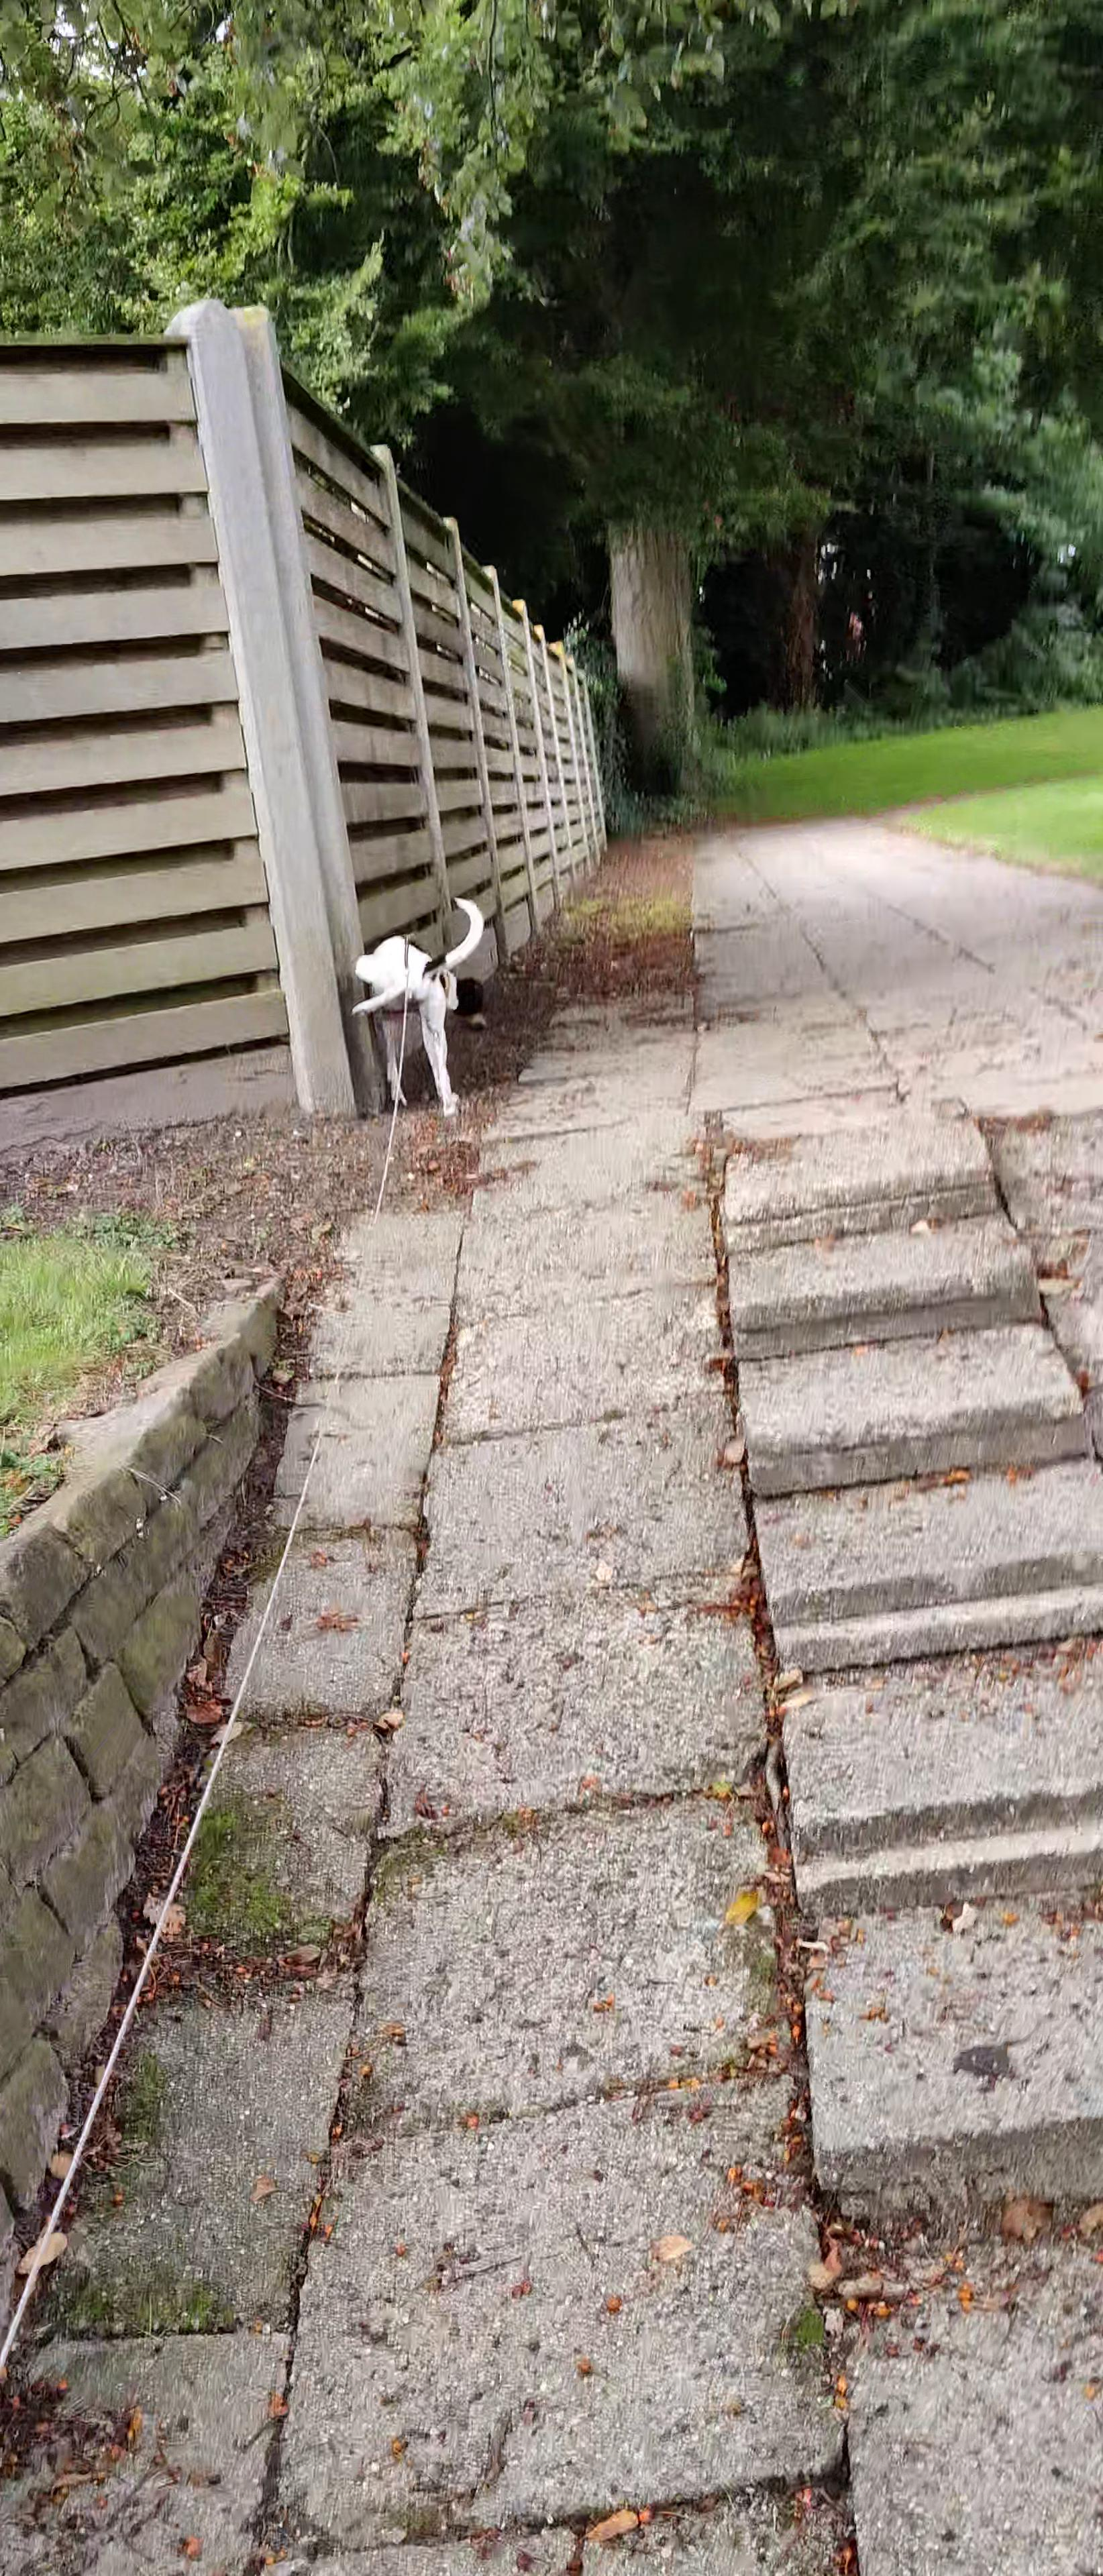Dog: (347, 894, 490, 1120)
